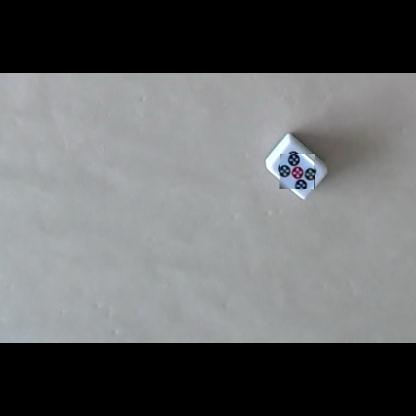5p: (279, 153, 315, 189)
